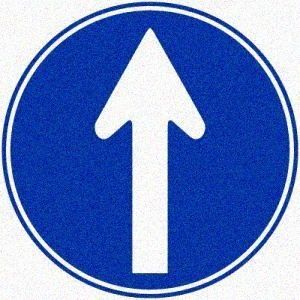Direction_sign: (5, 5, 298, 296)
